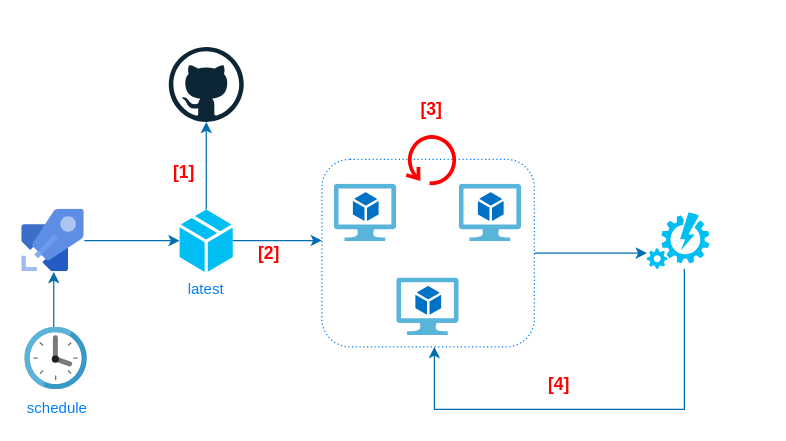
This 786x441 diagram has some shape labels left out. Each missing label, with the centre of its shape:
microsoft/azure-pipelines-agent: the point at 206,84
update trigger: the point at 677,240
